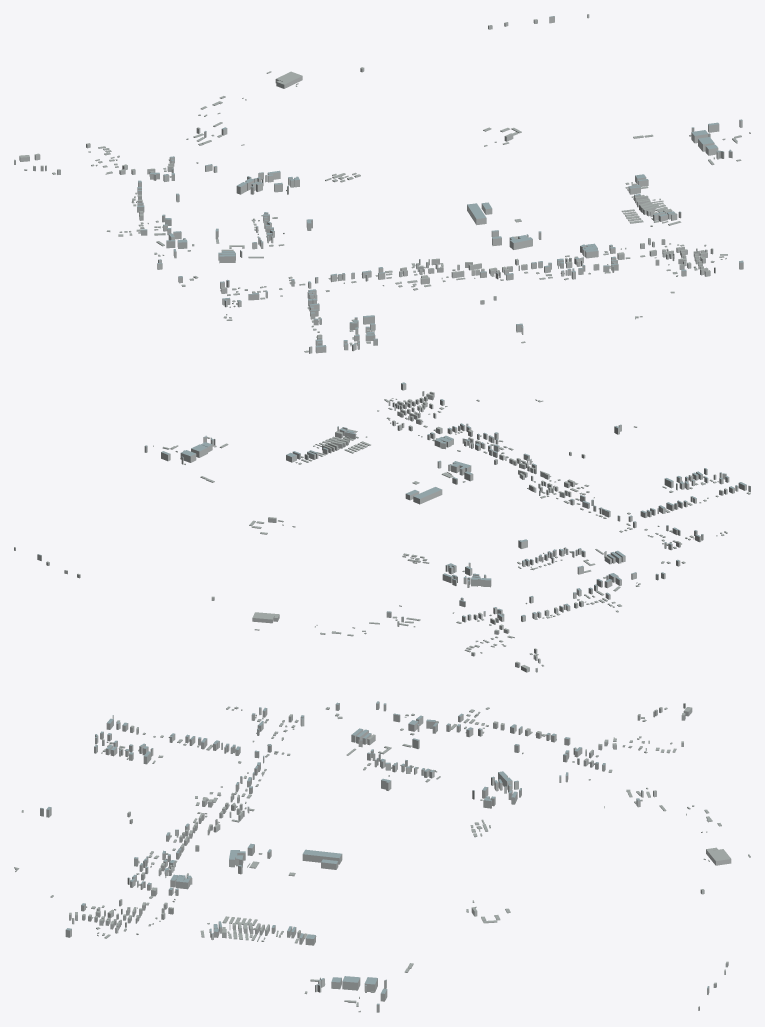
Rendered from far.glb.
The picture shows the model from 3 angles, top to bottom: view 1: azimuth 30°, elevation 25°; view 2: azimuth 150°, elevation 25°; view 3: azimuth 270°, elevation 25°; orthographic projection. The views are drawn at different scales.
Size of the model in its own units: 2025 by 26.5 by 2065.
